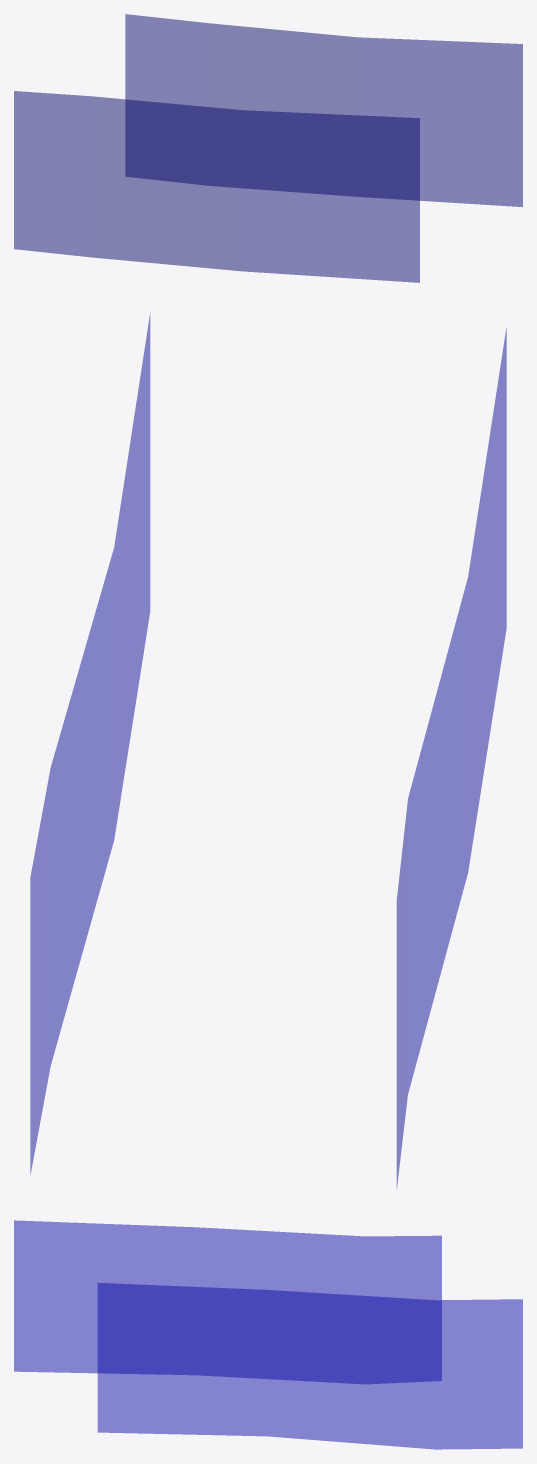
File: track_military_coll_wall_33.fbx
3 renders of one model, top to bottom at view 1: azimuth 30°, elevation 25°; view 2: azimuth 150°, elevation 25°; view 3: azimuth 270°, elevation 25°, orthographic. The views are drawn at different scales.
Visible parts, largest first — view 1: track_military_coll_wall_33; view 2: track_military_coll_wall_33; view 3: track_military_coll_wall_33.
Part boxes in pixels (left/top/right/bottom): track_military_coll_wall_33: left=14, top=14, right=522, bottom=282; track_military_coll_wall_33: left=30, top=313, right=506, bottom=1189; track_military_coll_wall_33: left=14, top=1220, right=522, bottom=1449.
Bounding box in the file's own units: 69.27 × 54.32 × 103.
